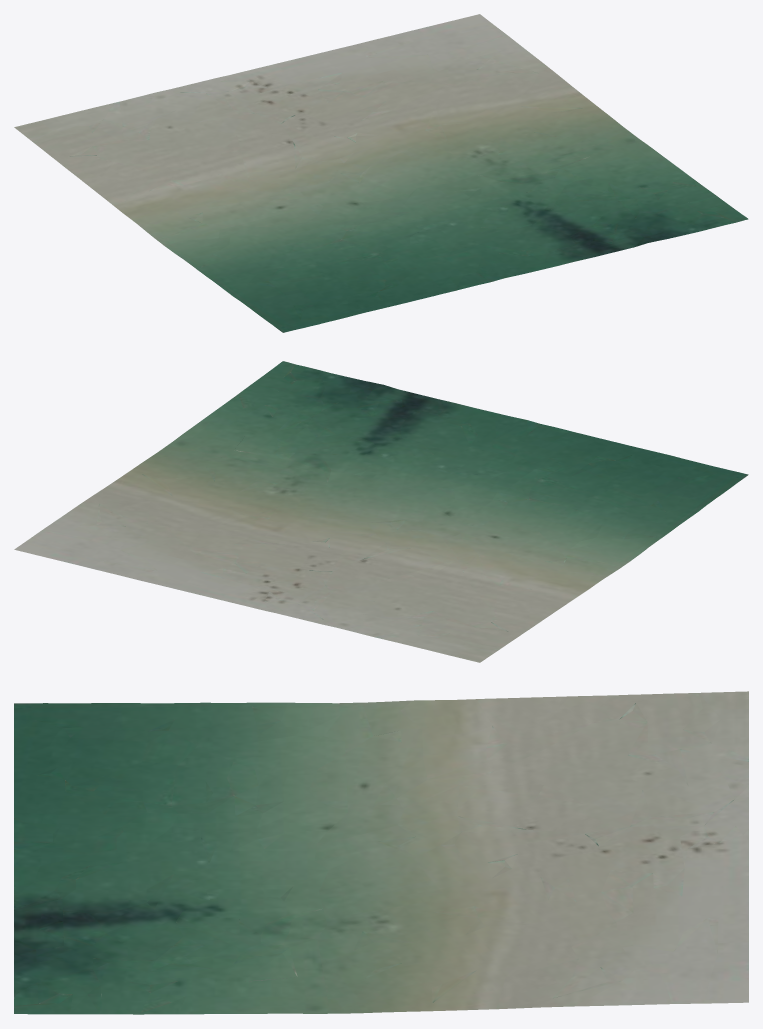
3 renders of one model, top to bottom at view 1: azimuth 30°, elevation 25°; view 2: azimuth 150°, elevation 25°; view 3: azimuth 270°, elevation 25°, orthographic. The views are drawn at different scales.
Size of the model in its own units: 104 by 2.07 by 104.
Materials: 3 (3 with a texture image).
